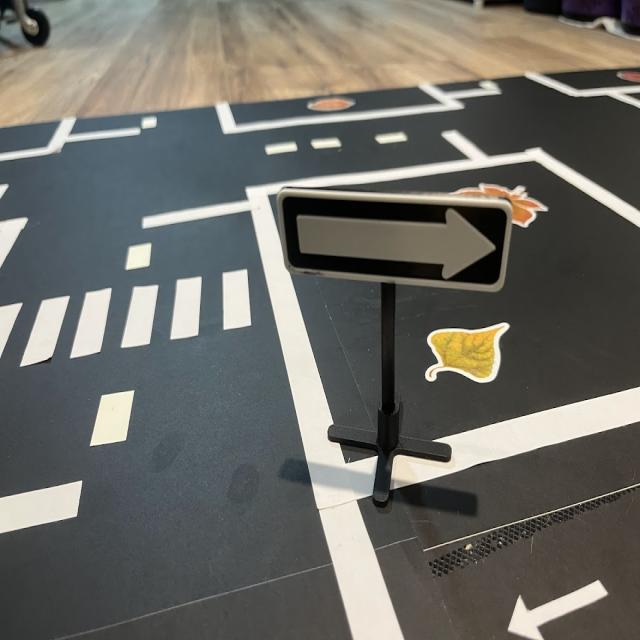road_crosswalk: (1, 258, 260, 382)
road_oneway: (498, 552, 622, 640)
sign_oneway_right: (281, 189, 521, 292)
